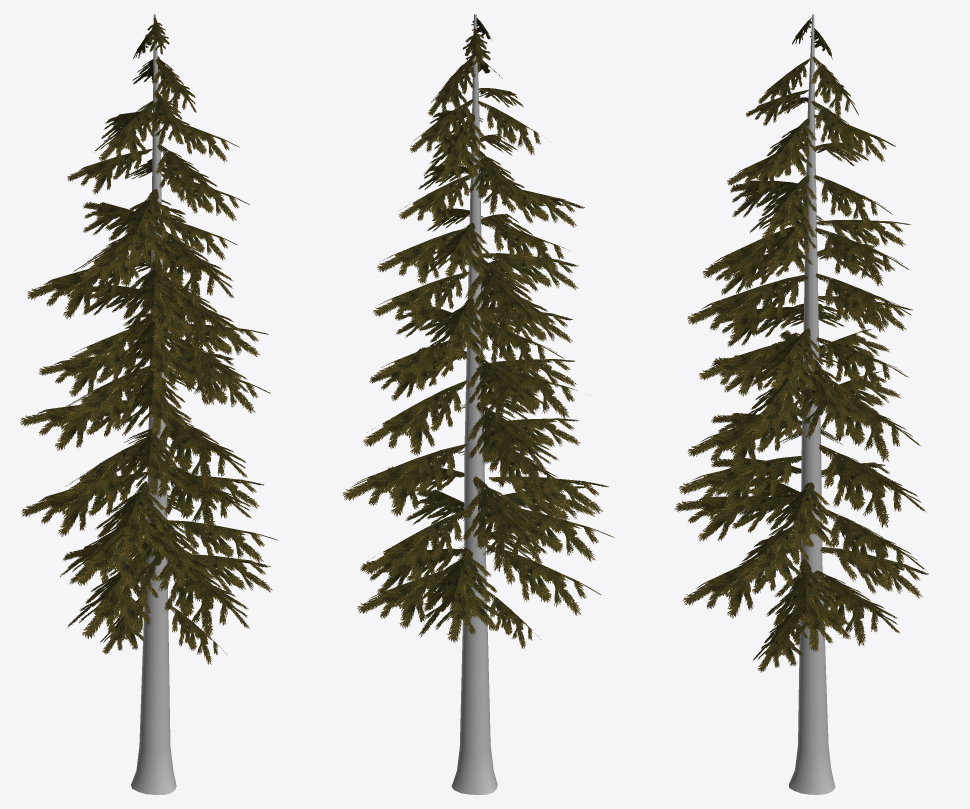
File: pine_tree_n_3.obj
3 renders of one model, left to right at view 1: azimuth 30°, elevation 25°; view 2: azimuth 150°, elevation 25°; view 3: azimuth 270°, elevation 25°, orthographic.
Visible parts, largest first — view 1: pine_tree_n_3; view 2: pine_tree_n_3; view 3: pine_tree_n_3.
Boxes of the visible parts, x1=… form: pine_tree_n_3: x1=20, y1=14, x2=277, y2=794; pine_tree_n_3: x1=342, y1=14, x2=614, y2=794; pine_tree_n_3: x1=675, y1=14, x2=928, y2=794.
Bounding box in the file's own units: 3.39 × 10.11 × 3.57.
